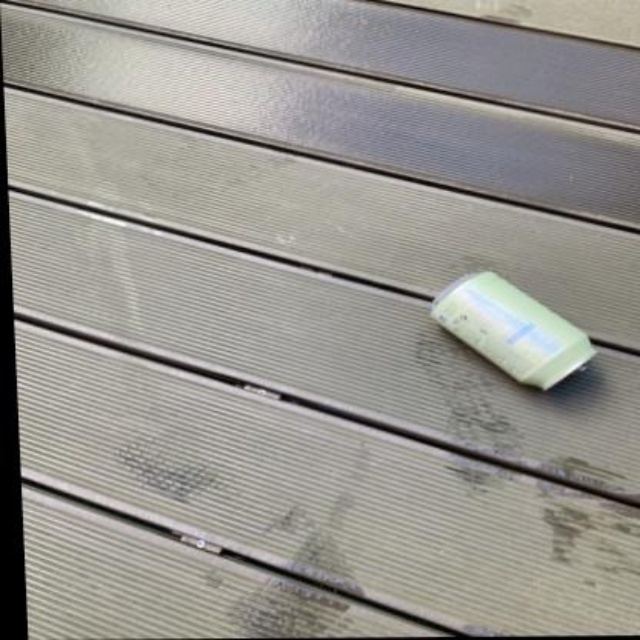trash: (431, 271, 594, 389)
